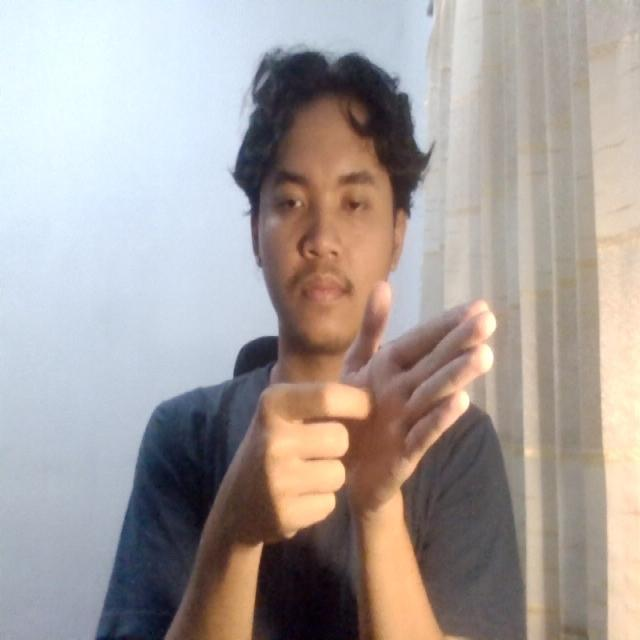L: (199, 271, 514, 569)
